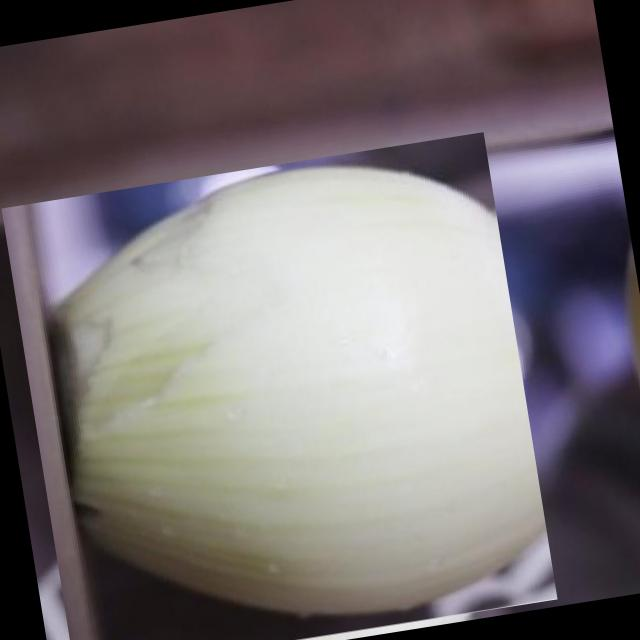Onion: (4, 128, 554, 640)
